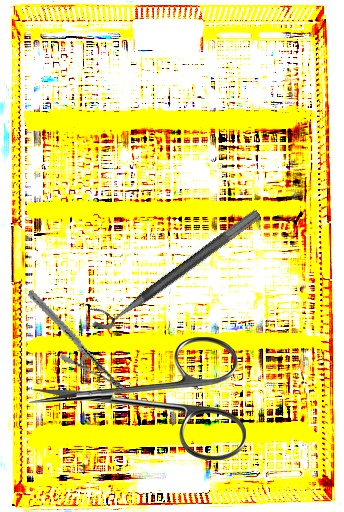Fixation Ring: (83, 194, 263, 337)
Iris Scissors: (29, 337, 246, 460)
Needle Holder: (9, 289, 144, 393)
